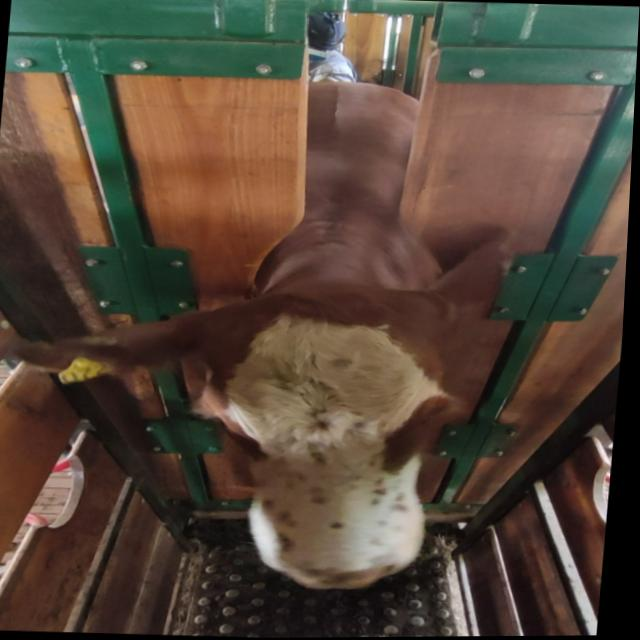cowFace: (185, 280, 456, 593)
